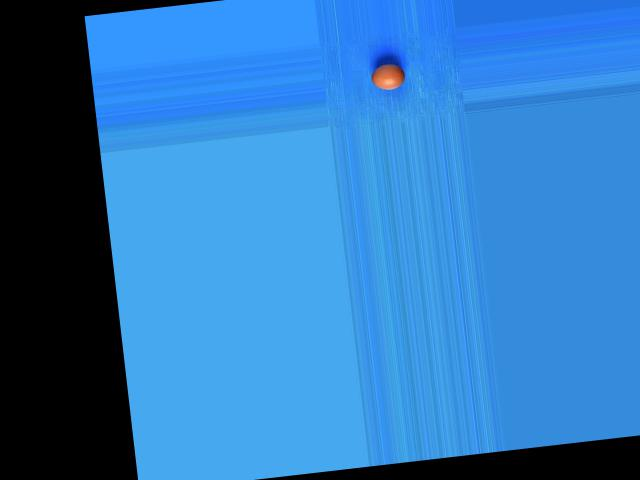egg: (370, 61, 405, 91)
